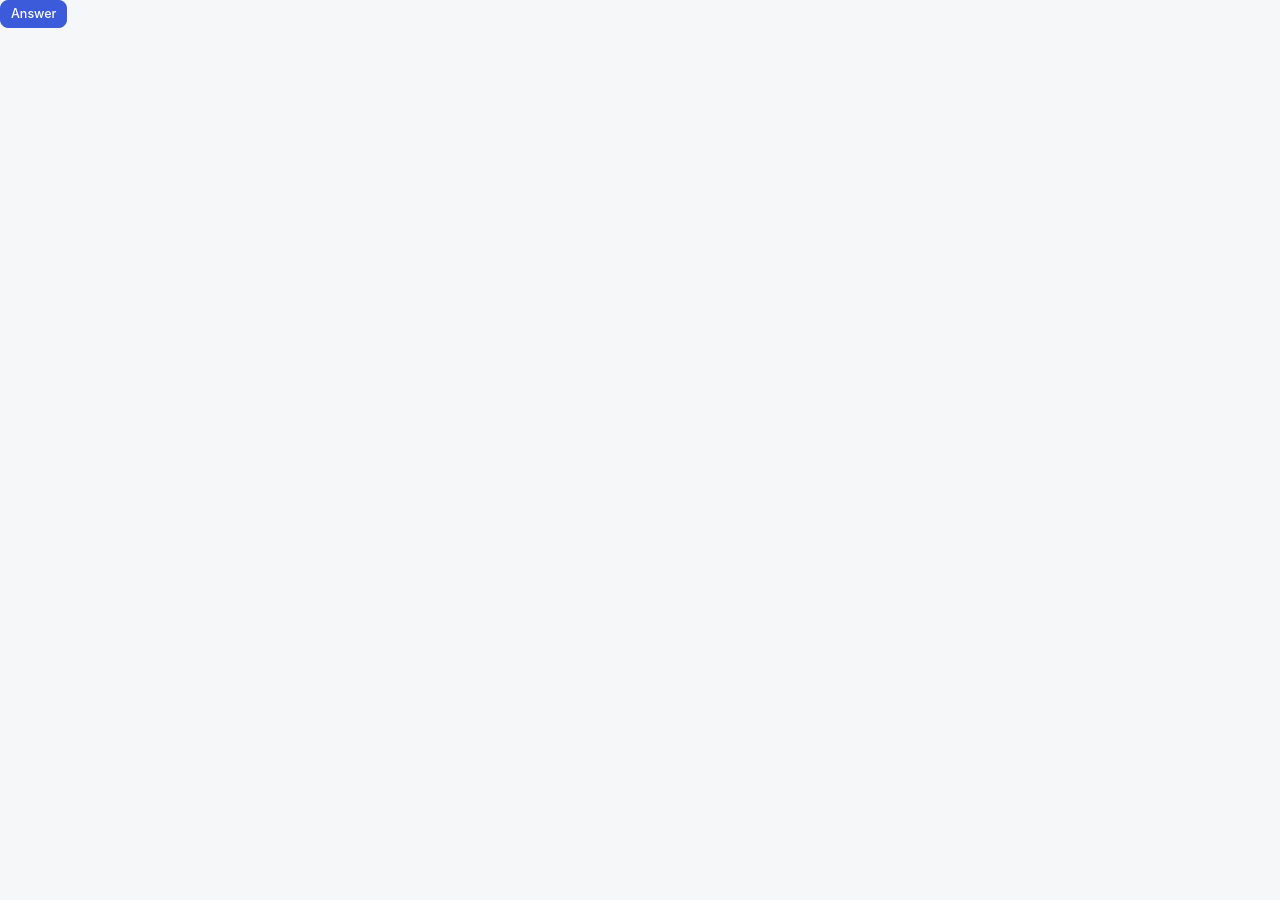
Test: the answer dialog › Something else needs text, then sends it as a free-text answer
This screenshot has width=1280, height=900.
Later steps or results of the test are not shown.
Click the button with aria-label "Answer codex on RCP-17" at (34, 14), box [0, 0, 68, 28]
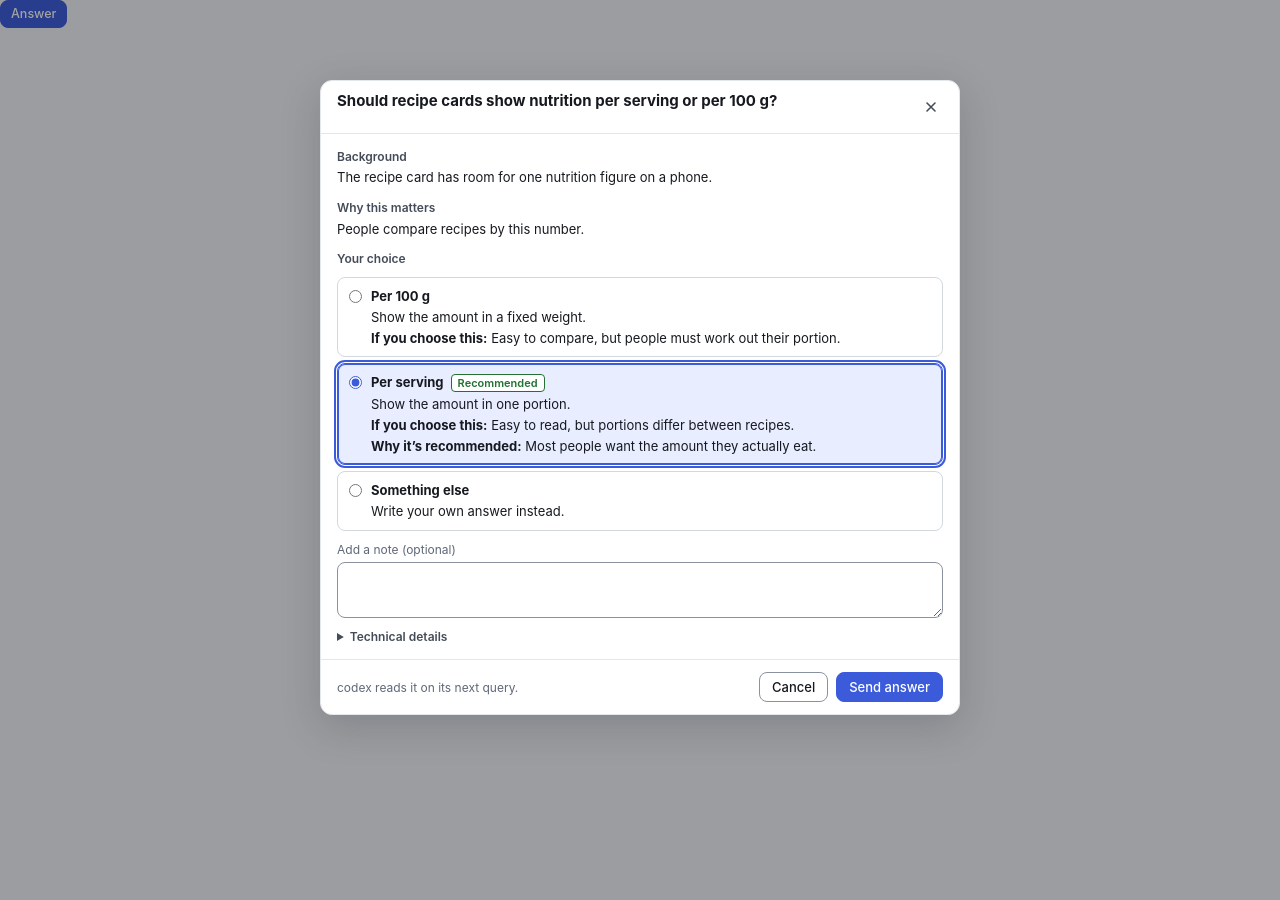
Click the radio button labelled "Something else Write your own answer instead." at (356, 491), box [349, 484, 362, 497]
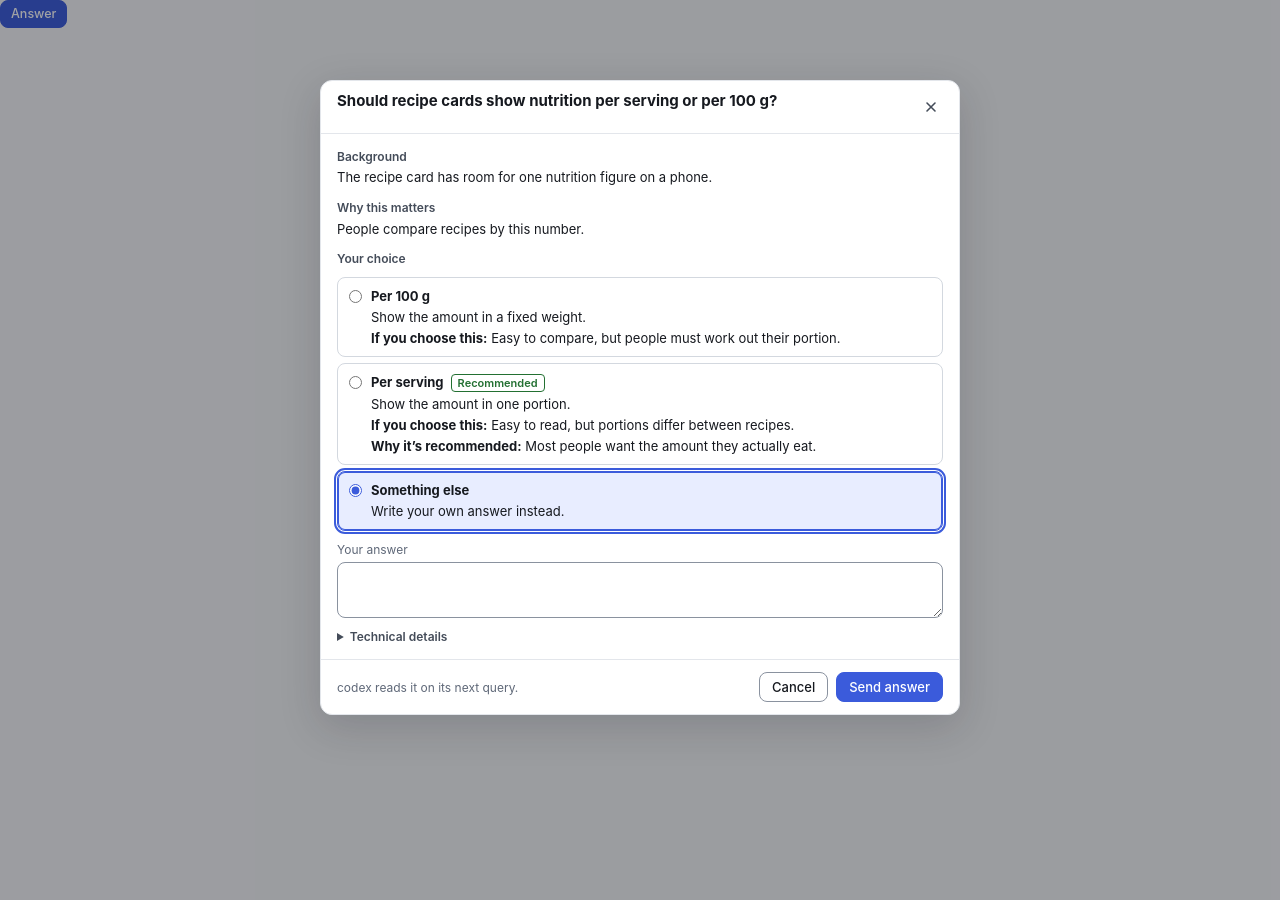
Now the label labelled "Add a note (optional)" is gone
